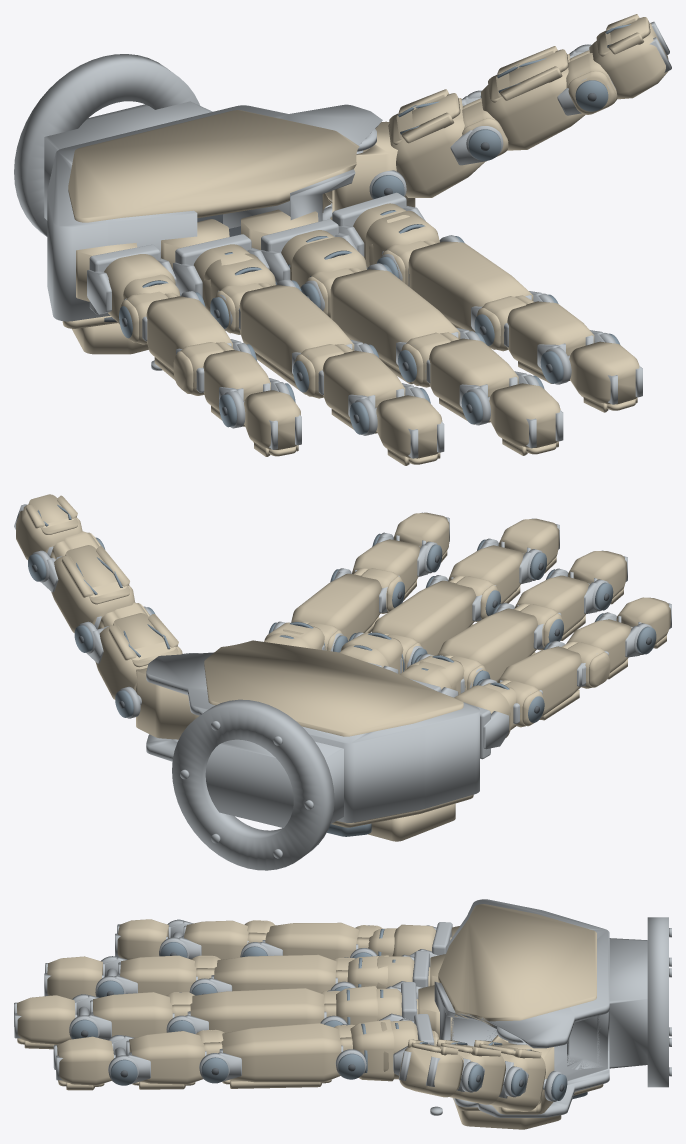
Rendered from orion16.glb.
The picture shows the model from 3 angles, top to bottom: view 1: azimuth 30°, elevation 25°; view 2: azimuth 150°, elevation 25°; view 3: azimuth 270°, elevation 25°; orthographic projection. The views are drawn at different scales.
Visible parts, largest first — view 1: visual__central_palm__1, visual__central_palm__0, visual__middle_proximal__0, visual__thumb_proximal__0, visual__ring_proximal__0, visual__index_proximal__0, visual__thumb_metacarpal__0, visual__little_proximal__0, visual__thumb_distal__0, visual__middle_middle__0, visual__middle_distal__0, visual__index_middle__0 (+27 smaller); view 2: visual__central_palm__0, visual__central_palm__1, visual__thumb_proximal__0, visual__middle_proximal__0, visual__ring_proximal__0, visual__thumb_metacarpal__0, visual__index_proximal__0, visual__little_proximal__0, visual__thumb_distal__0, visual__thumb_oppose_link__1, visual__middle_middle__0, visual__ring_middle__0 (+18 smaller); view 3: visual__central_palm__0, visual__central_palm__1, visual__index_proximal__0, visual__middle_proximal__0, visual__ring_proximal__0, visual__index_middle__0, visual__little_proximal__0, visual__middle_middle__0, visual__middle_distal__0, visual__index_distal__0, visual__thumb_distal__0, visual__ring_middle__0 (+37 smaller).
Boxes of the visible parts, box(x1,y1,x2,y2) form: visual__central_palm__1: box(62, 110, 359, 354); visual__central_palm__0: box(14, 54, 382, 370); visual__middle_proximal__0: box(330, 269, 460, 387); visual__thumb_proximal__0: box(481, 46, 617, 150); visual__ring_proximal__0: box(239, 285, 354, 398); visual__index_proximal__0: box(408, 241, 534, 351); visual__thumb_metacarpal__0: box(388, 89, 508, 197); visual__little_proximal__0: box(146, 296, 234, 395); visual__thumb_distal__0: box(589, 14, 668, 99); visual__middle_middle__0: box(429, 338, 518, 424); visual__middle_distal__0: box(489, 383, 560, 455); visual__index_middle__0: box(507, 301, 594, 383); visual__central_palm__0: box(146, 652, 479, 870); visual__central_palm__1: box(204, 640, 473, 841); visual__thumb_proximal__0: box(50, 531, 135, 632); visual__middle_proximal__0: box(372, 576, 497, 655); visual__ring_proximal__0: box(438, 603, 562, 682); visual__thumb_metacarpal__0: box(95, 602, 182, 699); visual__index_proximal__0: box(291, 568, 402, 641); visual__little_proximal__0: box(498, 641, 610, 720); visual__thumb_distal__0: box(16, 494, 82, 559); visual__thumb_oppose_link__1: box(136, 668, 199, 739); visual__middle_middle__0: box(448, 545, 523, 603); visual__ring_middle__0: box(515, 575, 589, 640); visual__central_palm__0: box(430, 899, 671, 1117); visual__central_palm__1: box(418, 904, 603, 1129); visual__index_proximal__0: box(196, 1023, 341, 1088); visual__middle_proximal__0: box(166, 988, 324, 1032); visual__ring_proximal__0: box(191, 954, 336, 992); visual__index_middle__0: box(129, 1031, 204, 1089); visual__little_proximal__0: box(244, 920, 358, 959); visual__middle_middle__0: box(93, 992, 172, 1037); visual__middle_distal__0: box(17, 995, 75, 1049); visual__index_distal__0: box(57, 1036, 113, 1090); visual__thumb_distal__0: box(399, 1039, 463, 1097); visual__ring_middle__0: box(120, 955, 196, 995).
Bounding box in the file's own units: 0.187 × 0.0698 × 0.2166.
